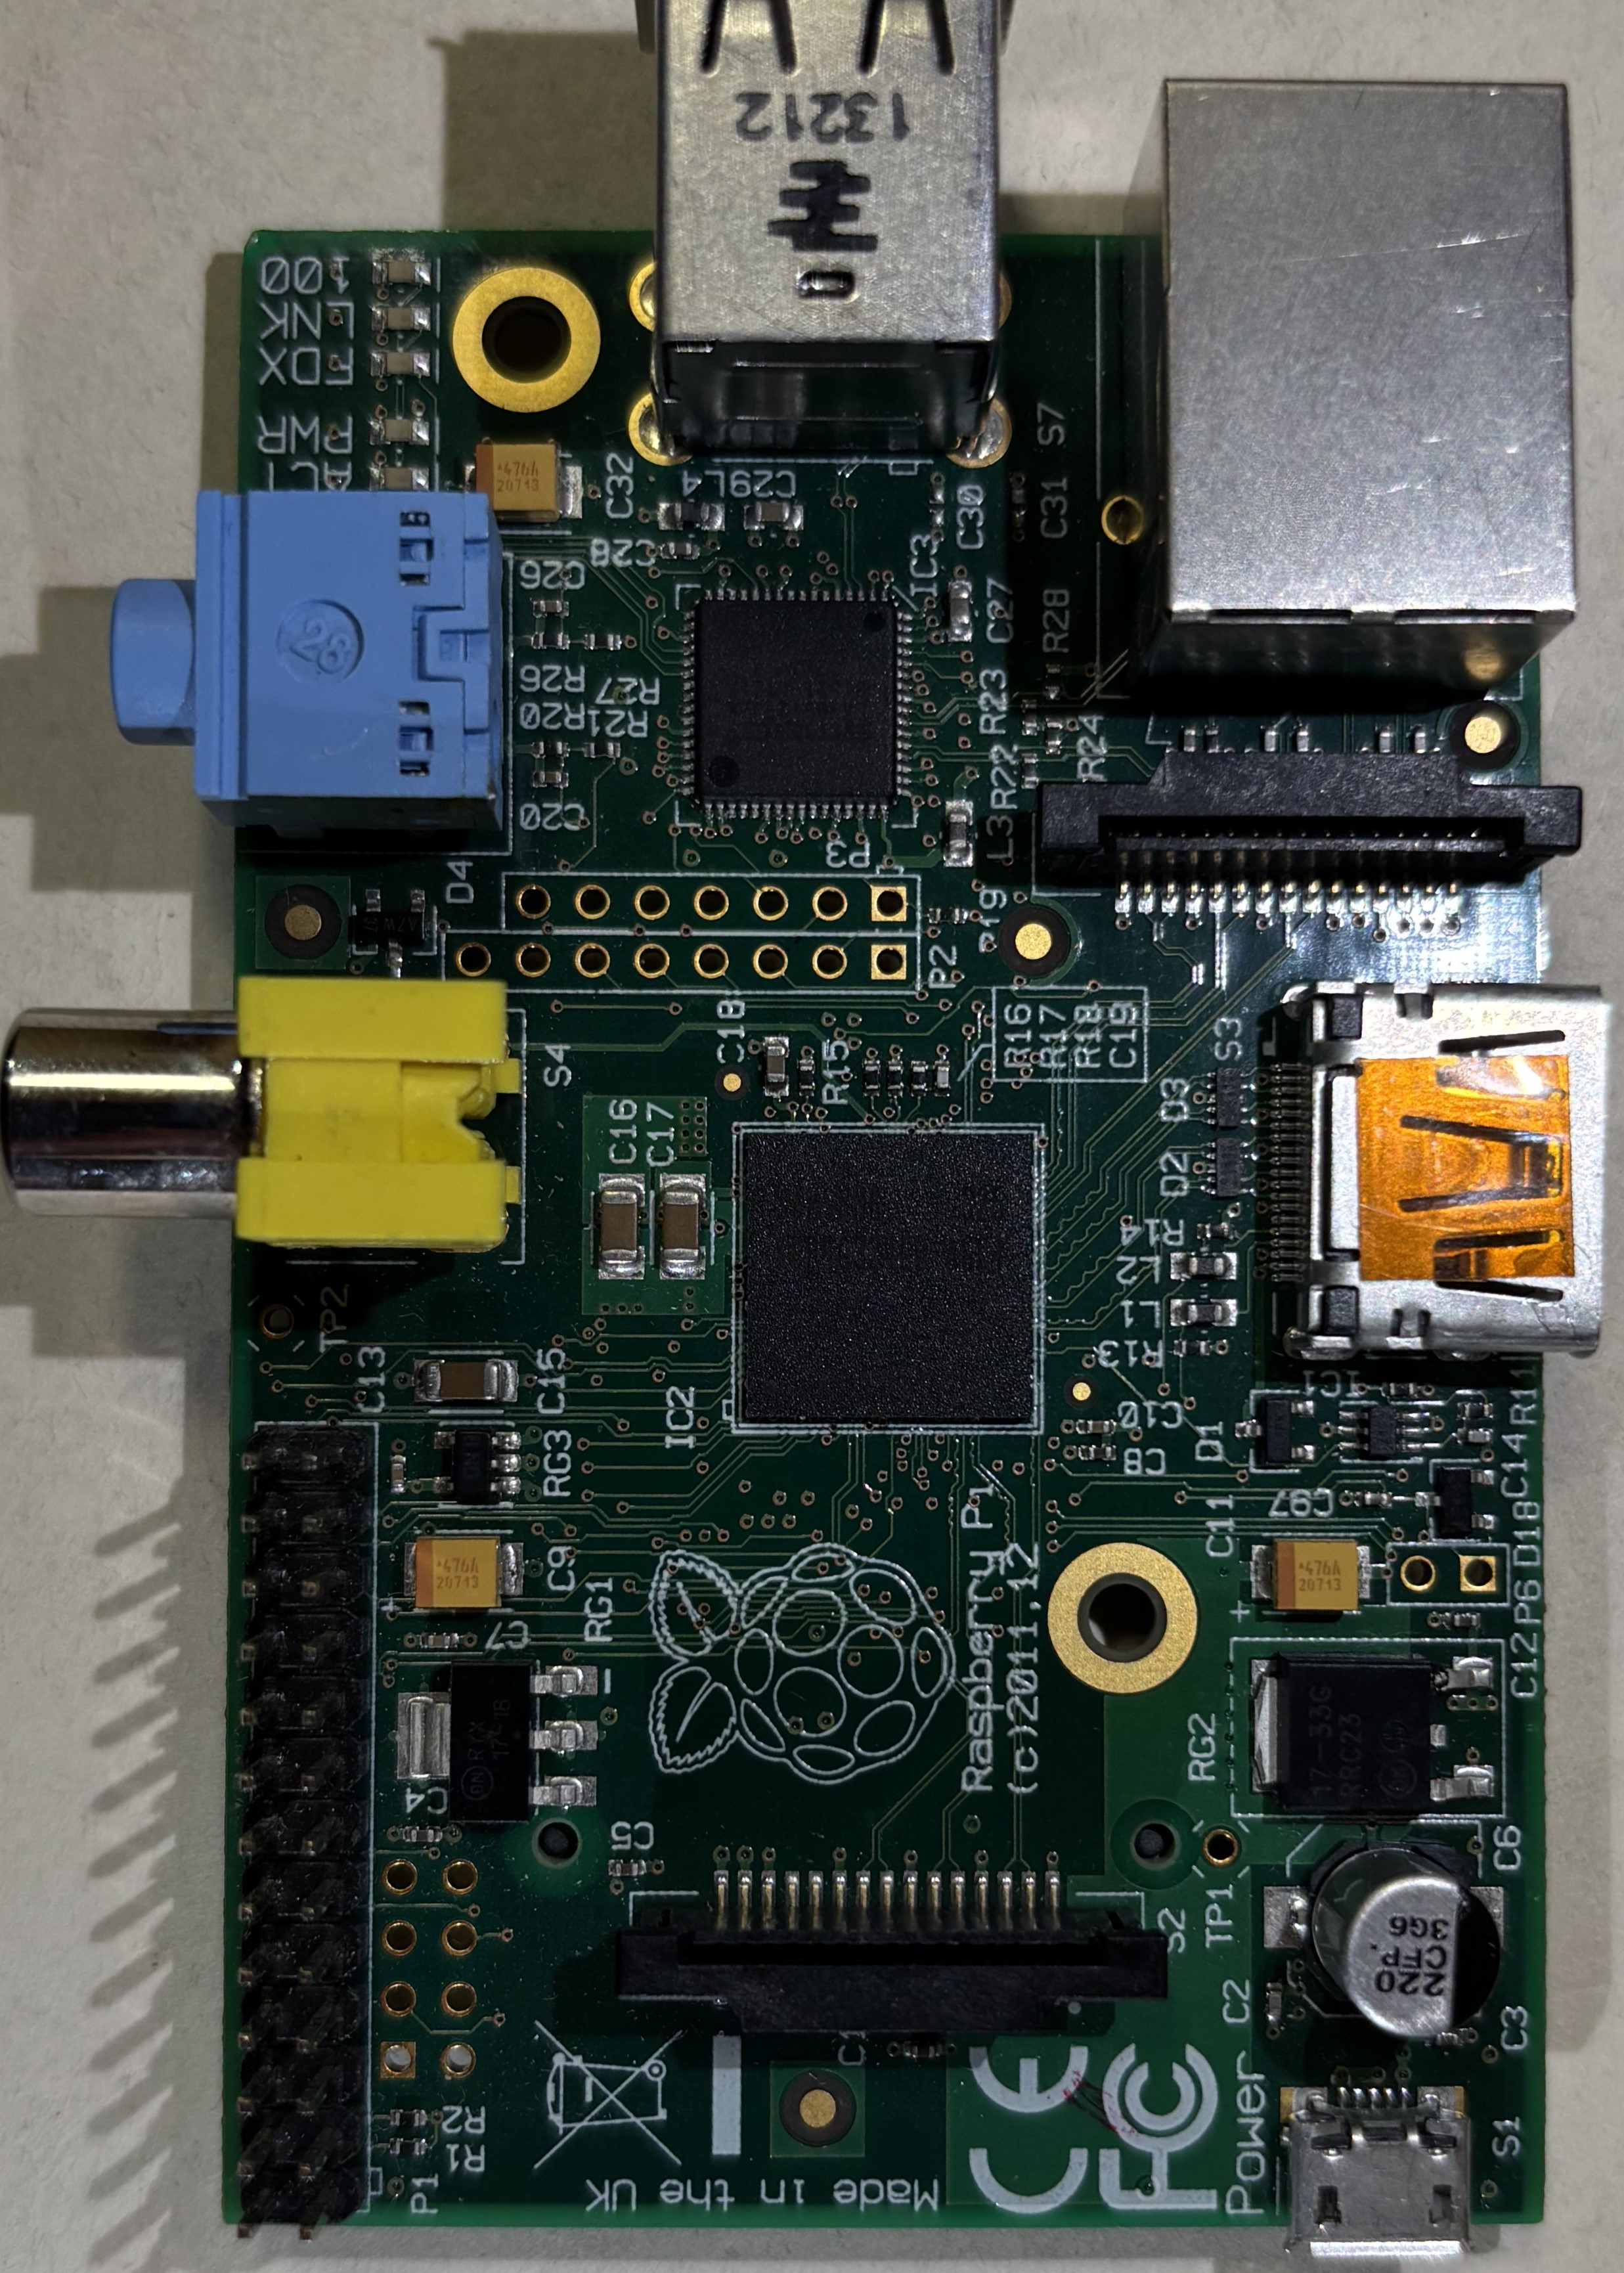Induktor: (1183, 1301, 1227, 1324), (1183, 1255, 1225, 1276), (947, 812, 968, 854)
